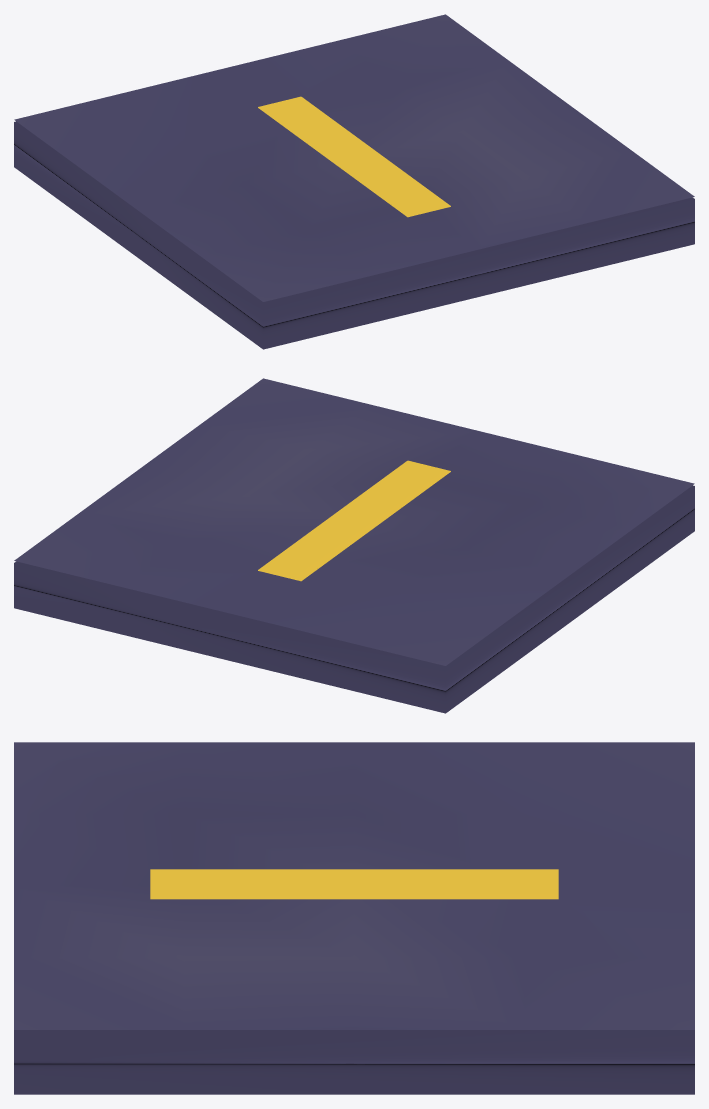
File: tile_lane_dash.glb
The picture shows the model from 3 angles, top to bottom: view 1: azimuth 30°, elevation 25°; view 2: azimuth 150°, elevation 25°; view 3: azimuth 270°, elevation 25°; orthographic projection. The views are drawn at different scales.
Visible parts, largest first — view 1: Tile.001; view 2: Tile.001; view 3: Tile.001.
Part boxes in pixels (x1=…): Tile.001: x1=14, y1=14, x2=694, y2=349; Tile.001: x1=14, y1=378, x2=694, y2=713; Tile.001: x1=14, y1=742, x2=694, y2=1094.
Size of the model in its own units: 1 by 0.109 by 1.
